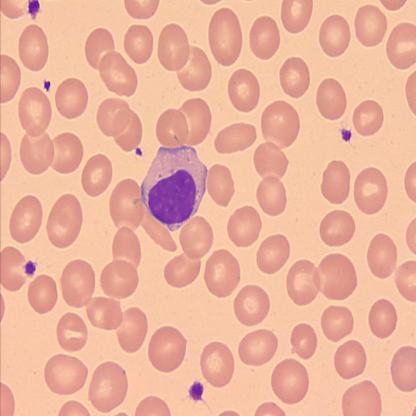Atypical lymphocyte: (141, 144, 207, 229)
